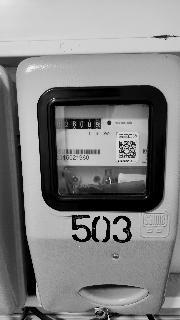1: (81, 122, 84, 127), (58, 122, 61, 127)
3: (66, 122, 69, 127)
9: (89, 122, 92, 127), (73, 122, 76, 127)
:: (96, 123, 99, 128)
